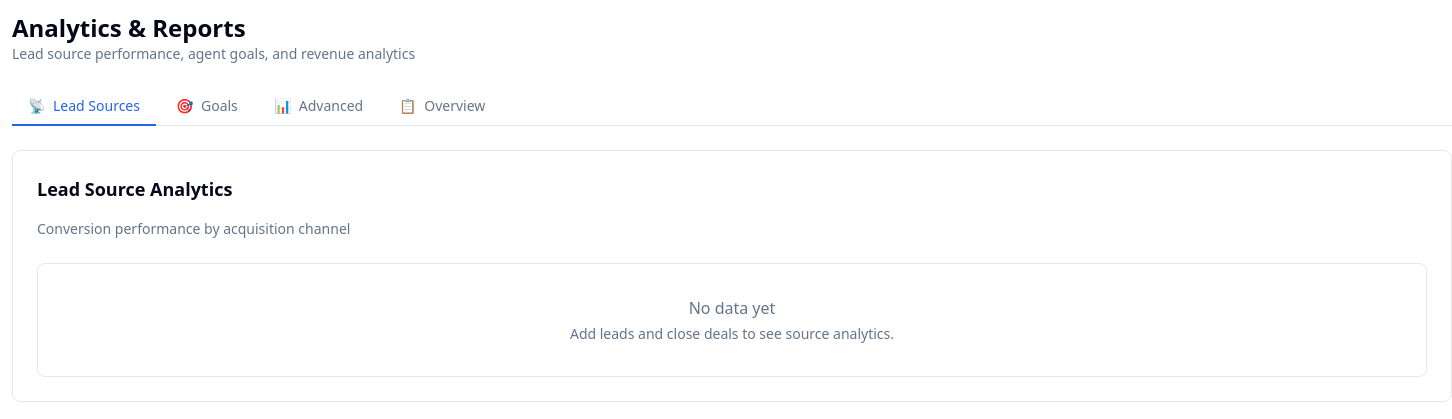
AnalyticsPage › shows goals tab content when active
Click the text "Goals".
click(219, 106)  # box left=201, top=96, right=238, bottom=116
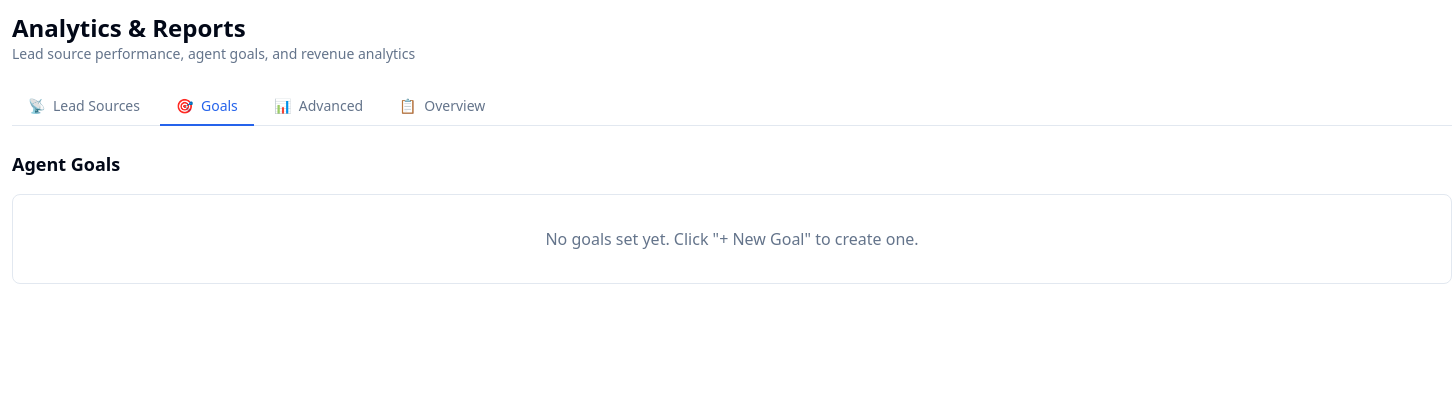
Check: the heading "Agent Goals" is shown, box left=12, top=152, right=120, bottom=176
